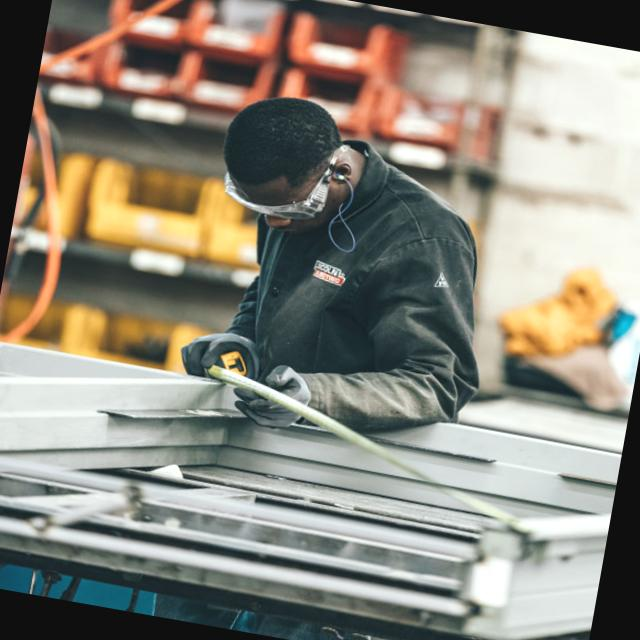goggles: (204, 134, 359, 234)
no-helmet: (210, 78, 358, 188)
no-vest: (252, 182, 442, 419)
